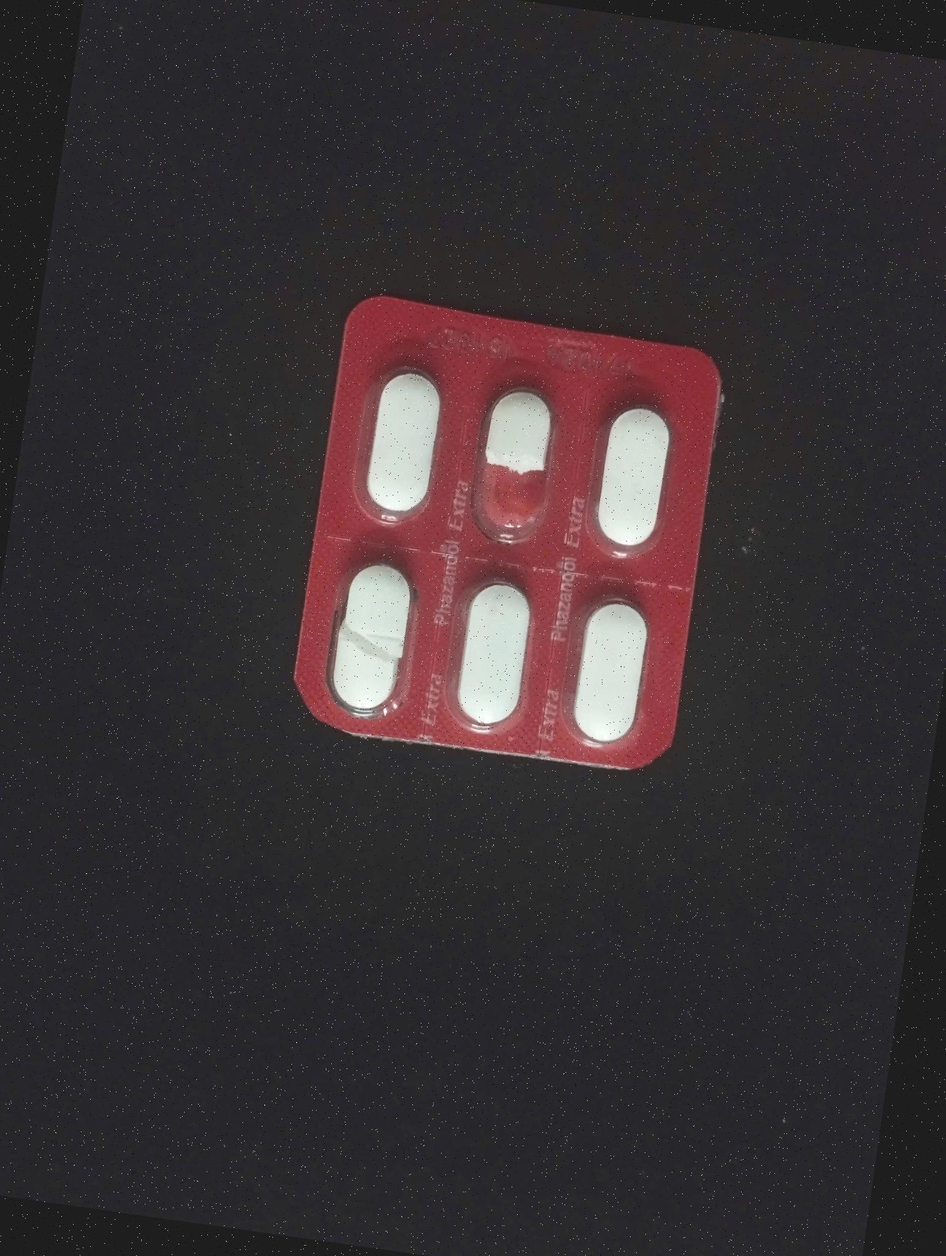Full: (437, 573, 543, 738), (579, 393, 678, 559), (560, 592, 657, 754), (358, 366, 448, 527)
